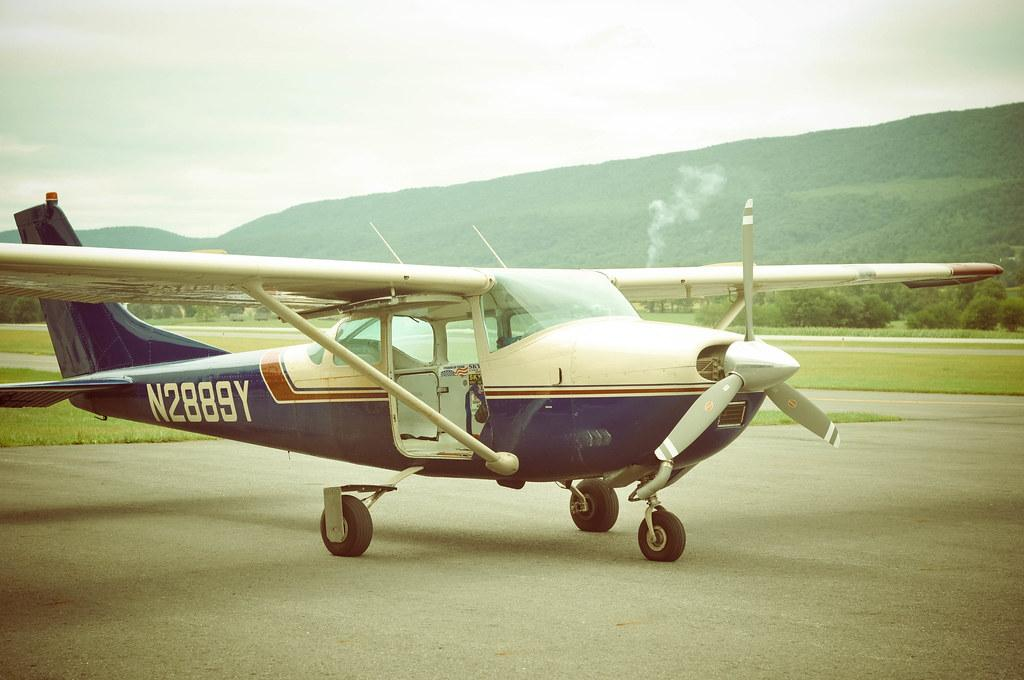plane: (1, 190, 1004, 562)
